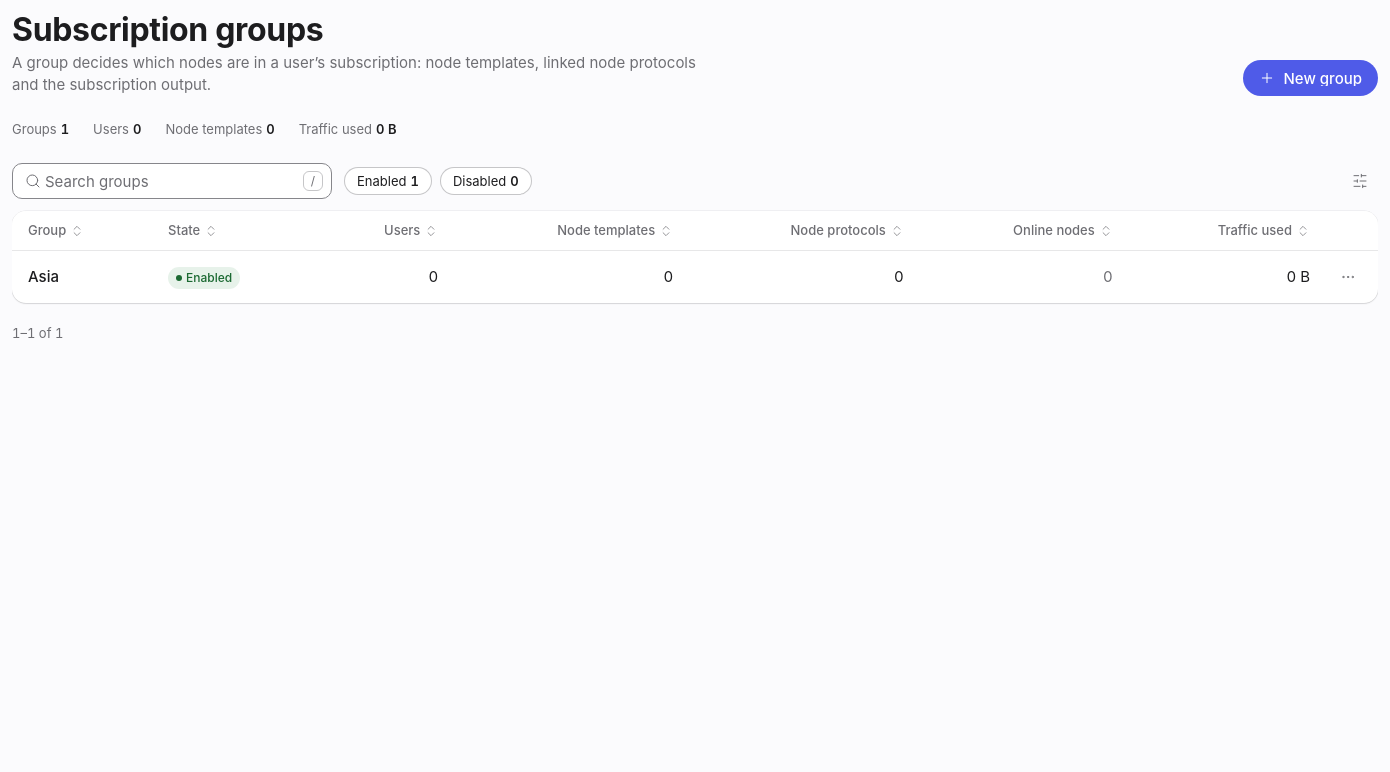
Test: Admin subscription groups › group list › opens a group page from its row
Click the row "Asia Enabled 0 0 0 0 0 B".
click(43, 277)  # box [12, 251, 1378, 303]
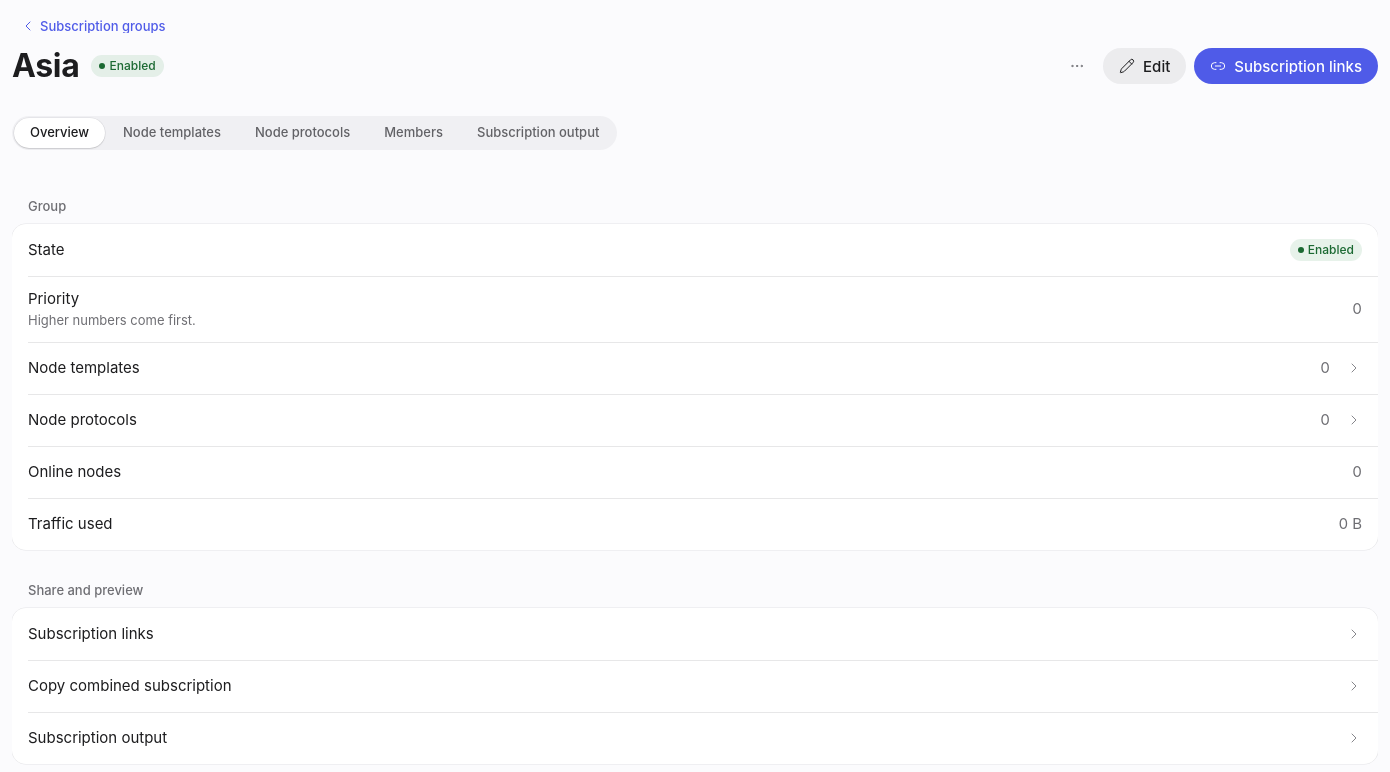
expect the heading "Asia" is shown: met, box [12, 48, 79, 84]
